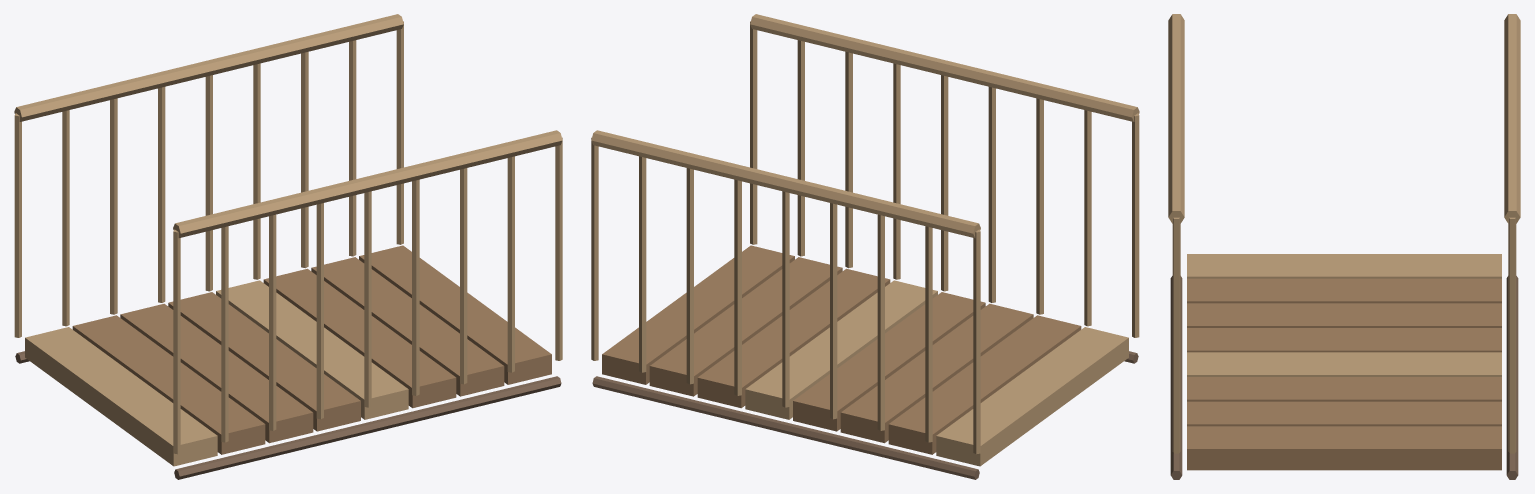
The model's file is Bridge_Rope_Module_2m.fbx.
The picture shows the model from 3 angles, left to right: view 1: azimuth 30°, elevation 25°; view 2: azimuth 150°, elevation 25°; view 3: azimuth 270°, elevation 25°; orthographic projection. The views are drawn at different scales.
Visible parts, largest first — view 1: Bridge_Rope_Module_2m; view 2: Bridge_Rope_Module_2m; view 3: Bridge_Rope_Module_2m.
Part boxes in pixels (<box>): Bridge_Rope_Module_2m: <box>14,14,562,479</box>; Bridge_Rope_Module_2m: <box>591,14,1139,479</box>; Bridge_Rope_Module_2m: <box>1168,14,1520,479</box>.
Size of the model in its own units: 203 by 127 by 151.
